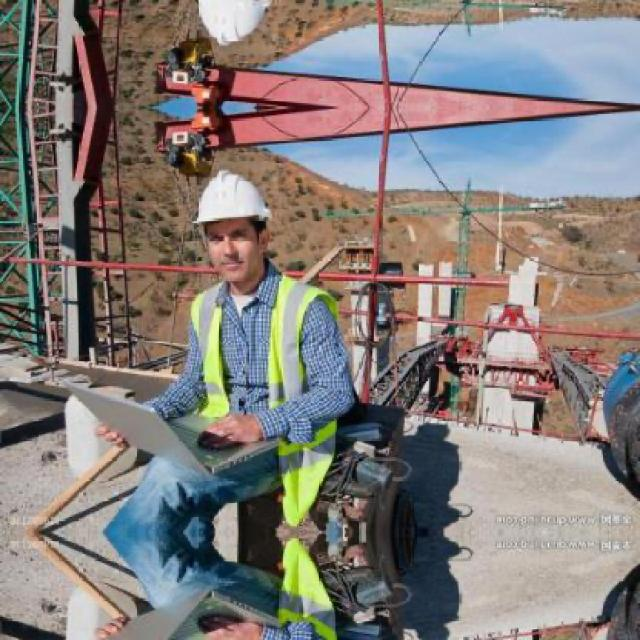con casco: (172, 162, 294, 305)
